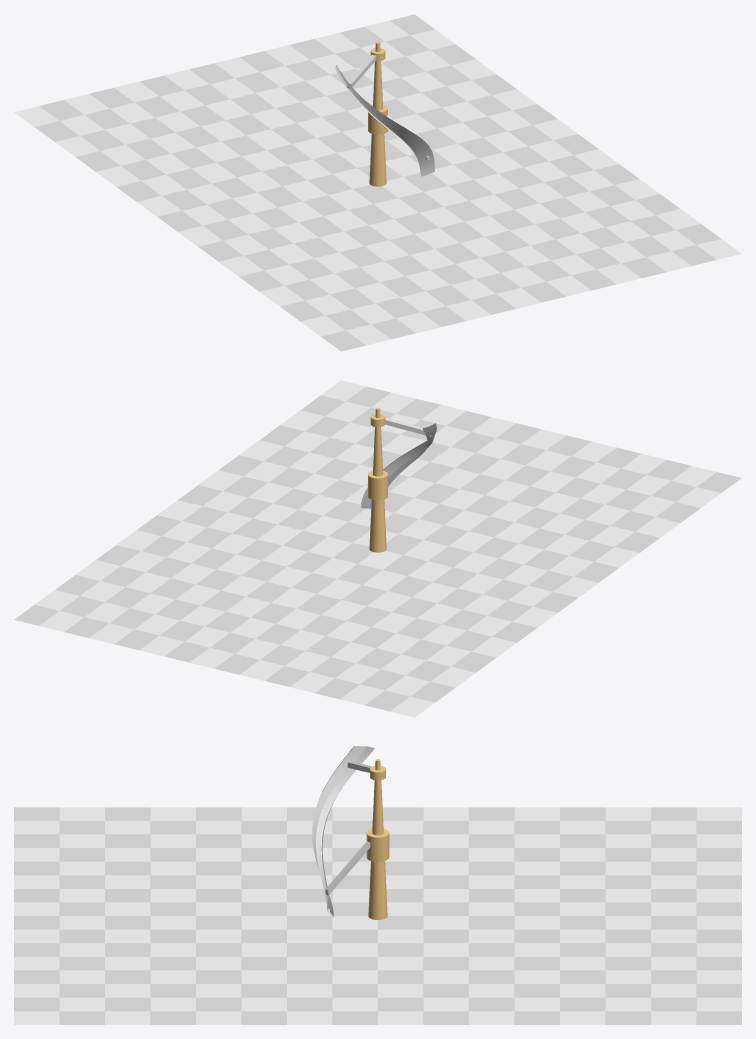
Rendered from wind_tower_01_02.gltf.
3 views of the same model, one above another, from view 1: azimuth 30°, elevation 25°; view 2: azimuth 150°, elevation 25°; view 3: azimuth 270°, elevation 25° (orthographic). The views are drawn at different scales.
Visible parts, largest first — view 1: Checker.4, Blade, Tower; view 2: Checker.4, Tower, Blade; view 3: Checker.4, Blade, Tower.
Part boxes in pixels (x1=…): Checker.4: x1=14, y1=14, x2=741, y2=351; Blade: x1=335, y1=54, x2=434, y2=177; Tower: x1=368, y1=42, x2=387, y2=186; Checker.4: x1=14, y1=380, x2=741, y2=717; Tower: x1=368, y1=408, x2=387, y2=552; Blade: x1=360, y1=418, x2=436, y2=509; Checker.4: x1=14, y1=807, x2=741, y2=1024; Blade: x1=312, y1=746, x2=374, y2=917; Tower: x1=366, y1=759, x2=389, y2=919.
Size of what is drawn, in the model's own units: 8 by 2.67 by 11.31.
